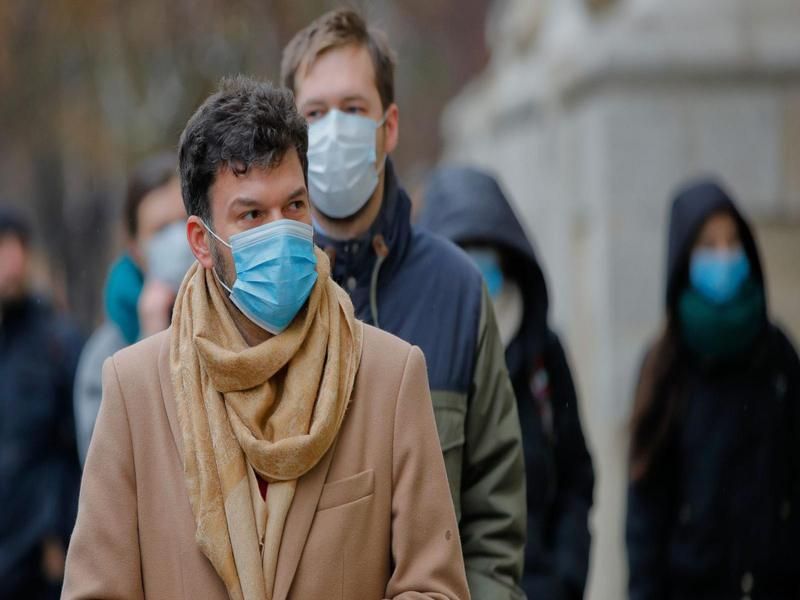with_mask: (177, 73, 315, 339), (277, 10, 403, 225), (122, 156, 193, 291), (688, 213, 748, 310)
